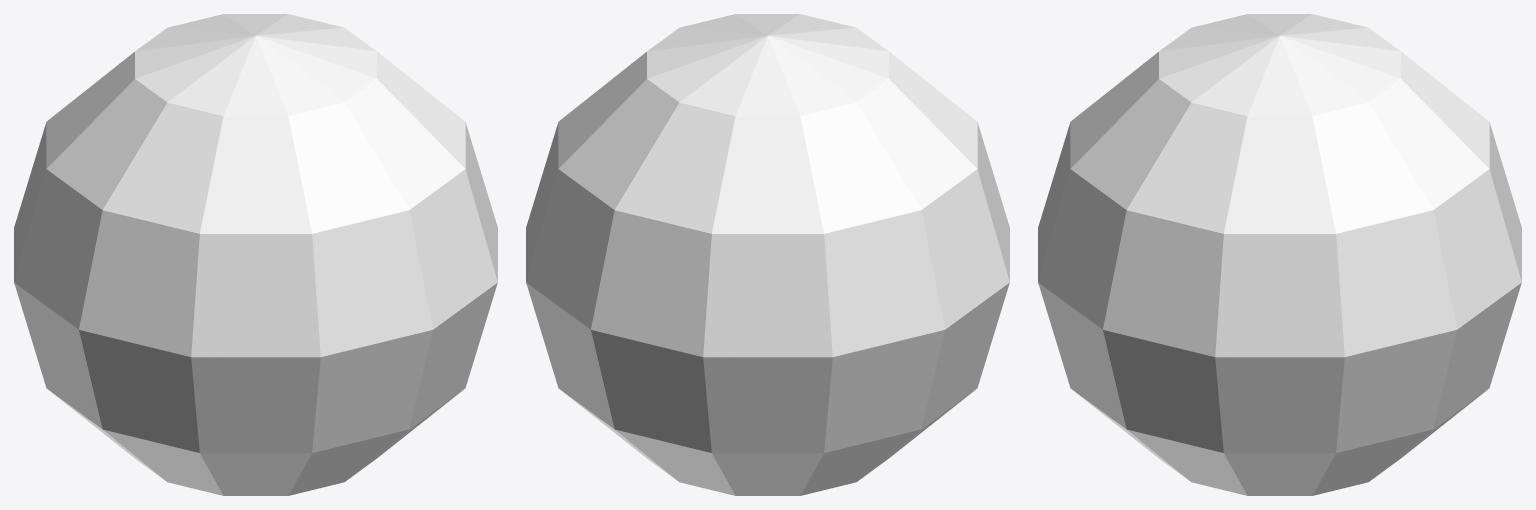
Rendered from essence.fbx.
The picture shows the model from 3 angles, left to right: view 1: azimuth 30°, elevation 25°; view 2: azimuth 150°, elevation 25°; view 3: azimuth 270°, elevation 25°; orthographic projection.
Visible parts, largest first — view 1: sphere; view 2: sphere; view 3: sphere.
Boxes of the visible parts, x1,y1,x2,y2 form: sphere: [14, 14, 497, 495]; sphere: [526, 14, 1009, 495]; sphere: [1038, 14, 1521, 495].
Size of the model in its own units: 100 by 100 by 100.
Materials: 1 (1 with a texture image).
